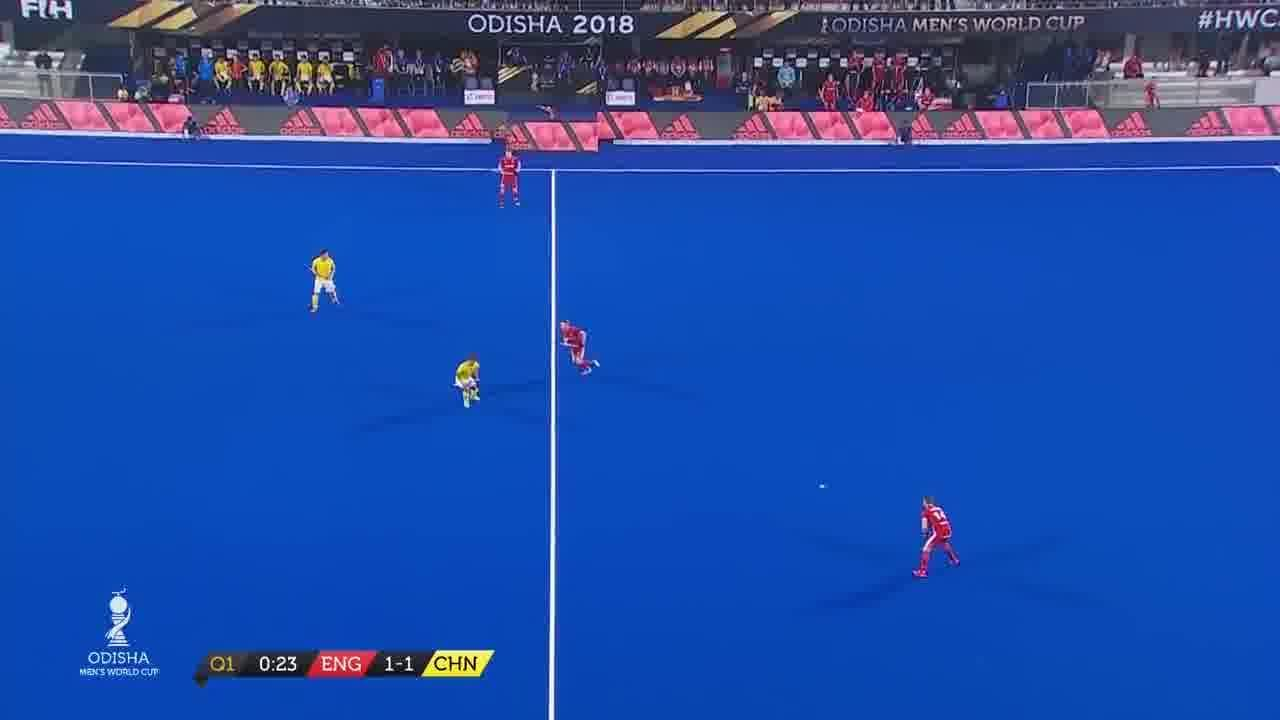ball: (819, 480, 827, 495)
